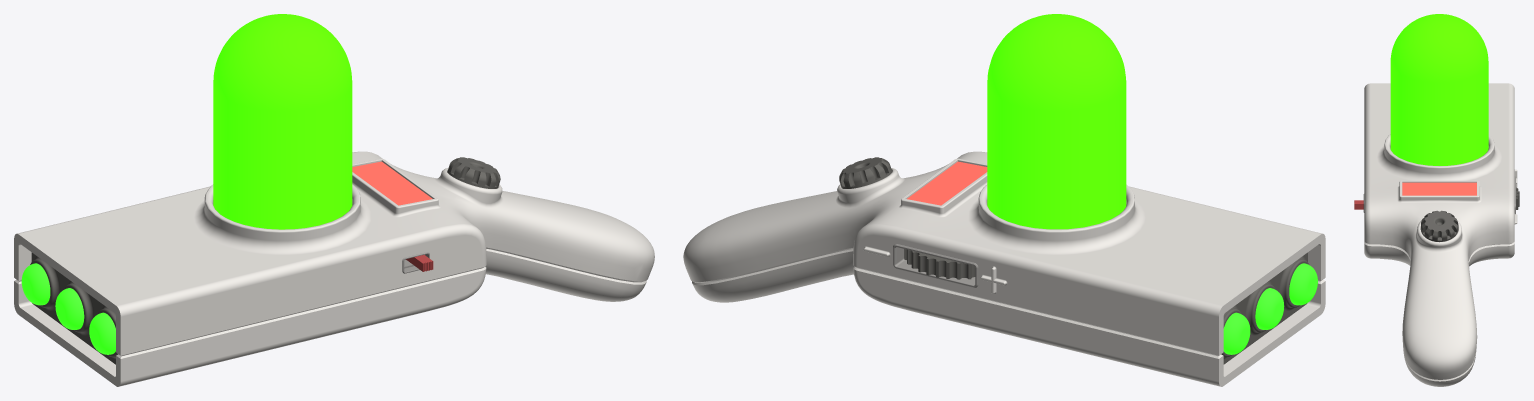
The model's file is gun.glb.
3 renders of one model, left to right at view 1: azimuth 30°, elevation 25°; view 2: azimuth 150°, elevation 25°; view 3: azimuth 270°, elevation 25°, orthographic. The views are drawn at different scales.
Visible parts, largest first — view 1: Body16, Body28, Body1, Body4, Body15, Body12, Body8, Body9, Body10; view 2: Body16, Body28, Body1, Body4, Body15, Body31, Body12, Body10, Body9, Body8, Body32; view 3: Body16, Body28, Body1, Body15, Body12.
Part boxes in pixels (bbox=[...]): Body16: bbox=[14, 151, 654, 356]; Body28: bbox=[213, 14, 352, 229]; Body1: bbox=[14, 249, 646, 386]; Body4: bbox=[30, 252, 118, 364]; Body15: bbox=[352, 161, 432, 205]; Body12: bbox=[447, 157, 500, 188]; Body8: bbox=[21, 263, 50, 305]; Body9: bbox=[55, 288, 84, 329]; Body10: bbox=[89, 312, 115, 354]; Body16: bbox=[683, 151, 1325, 356]; Body28: bbox=[987, 14, 1126, 229]; Body1: bbox=[692, 249, 1325, 386]; Body4: bbox=[1221, 252, 1309, 364]; Body15: bbox=[907, 161, 987, 205]; Body31: bbox=[904, 249, 975, 279]; Body12: bbox=[839, 157, 892, 188]; Body10: bbox=[1289, 263, 1317, 305]; Body9: bbox=[1255, 288, 1284, 329]; Body8: bbox=[1223, 312, 1250, 354]; Body32: bbox=[893, 244, 978, 287]; Body16: bbox=[1364, 83, 1517, 379]; Body28: bbox=[1390, 14, 1488, 165]; Body1: bbox=[1364, 241, 1514, 386]; Body15: bbox=[1402, 182, 1476, 195]; Body12: bbox=[1420, 210, 1458, 241].
Bounding box in the file's own units: 191 × 110 × 65.96.
